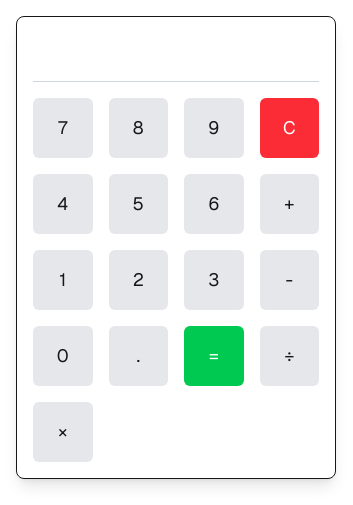
Home Page › can perform evaluation of an expression
Click the button "7": (63, 128) [33,98,92,158]
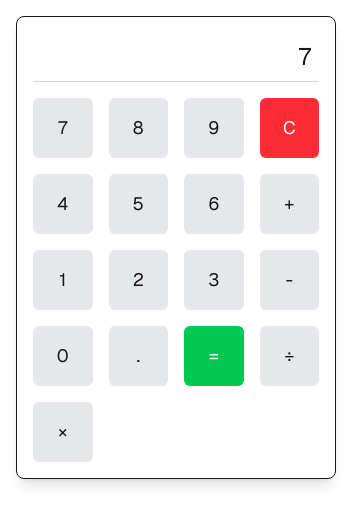
Click the button "+": (289, 204) [260,174,319,234]
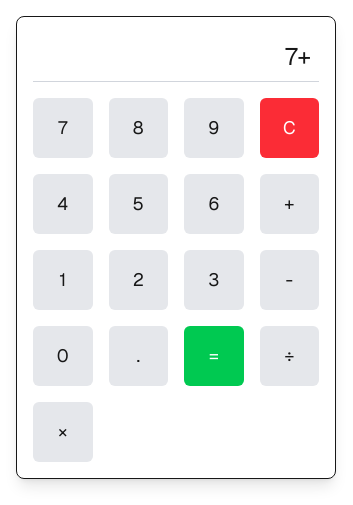
Click the button "3": (214, 280) [184,250,244,310]
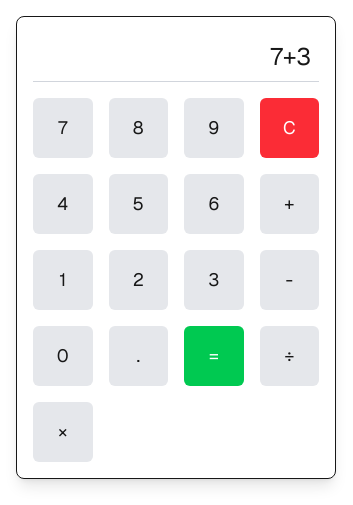
Click the button "=": (214, 356) [184,326,244,386]
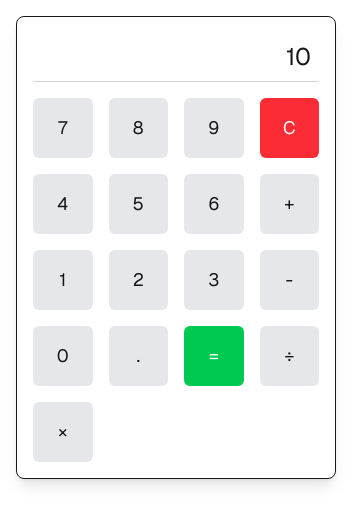
Expected: the field holds "10", [33,33,319,82]
